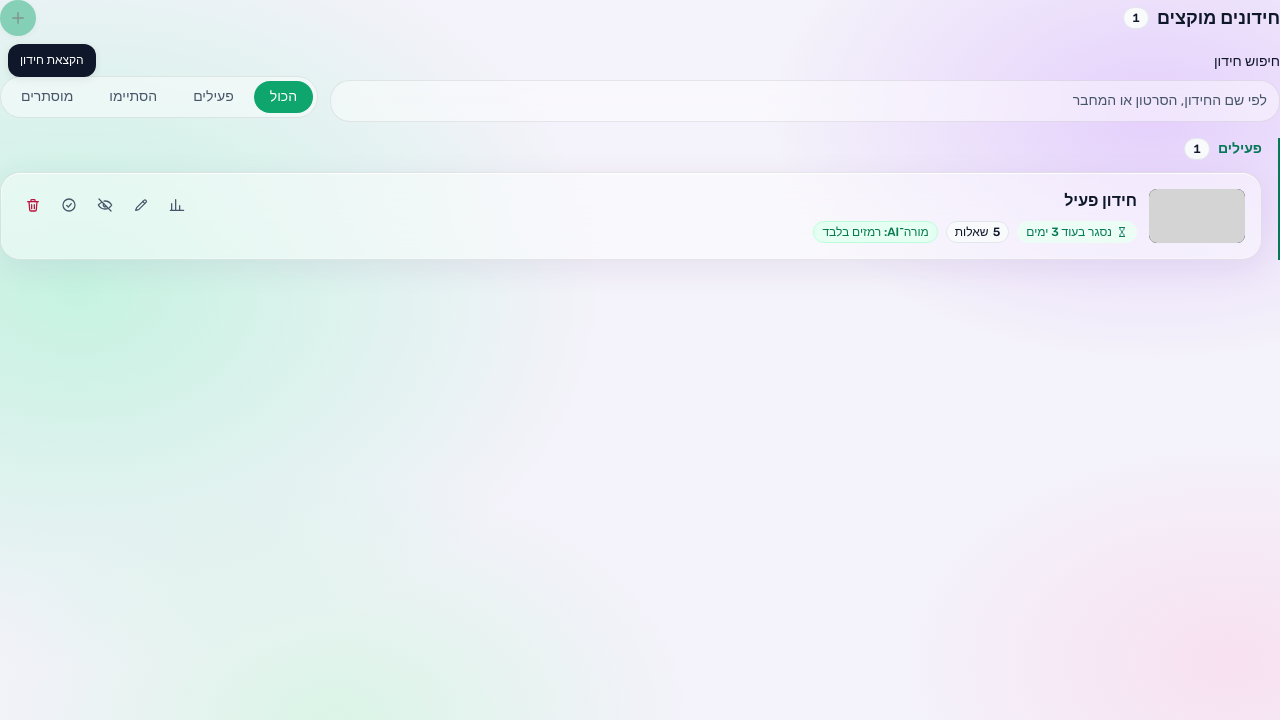
Scenario: AssignedQuizzesSection rows › confirms before unassigning
The width and height of the screenshot is (1280, 720).
Step 1. Click the button named "ביטול הקצאה" → (33, 205), box [17,189,49,221]
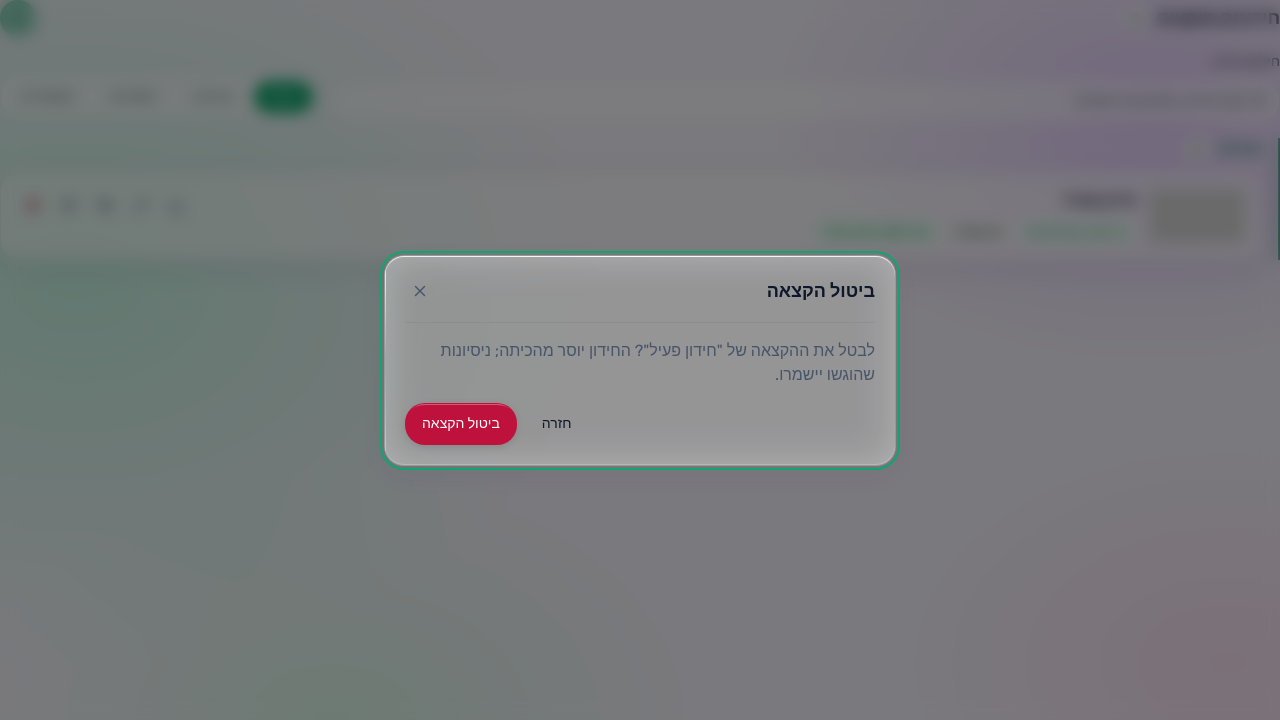
Now the dialog shows "החידון יוסר מהכיתה", box [441,340,875,384]
